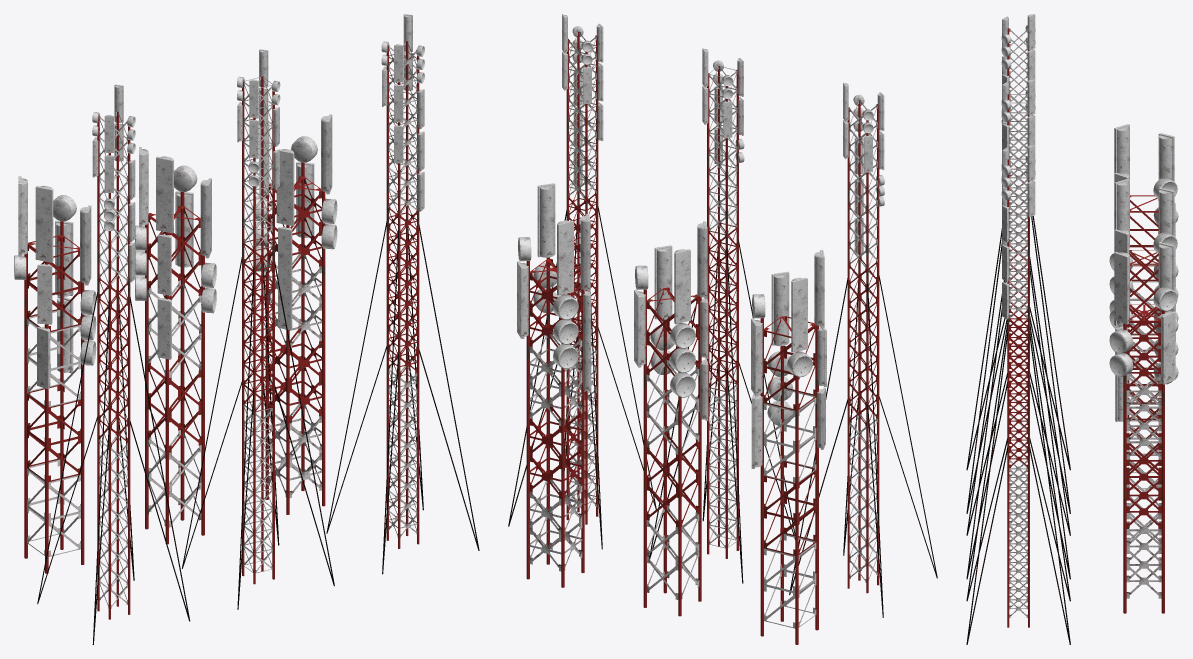
The picture shows the model from 3 angles, left to right: view 1: azimuth 30°, elevation 25°; view 2: azimuth 150°, elevation 25°; view 3: azimuth 270°, elevation 25°; orthographic projection. The views are drawn at different scales.
Parts seen in each view (by area): view 1: Telecommunication Tower_1_1, Telecommunication Tower_5_5, Telecommunication Tower_0_0, Telecommunication Tower_2_2, Telecommunication Tower_4_4, Telecommunication Tower_3_3; view 2: Telecommunication Tower_2_2, Telecommunication Tower_0_0, Telecommunication Tower_1_1, Telecommunication Tower_3_3, Telecommunication Tower_4_4, Telecommunication Tower_5_5; view 3: Telecommunication Tower_2_2, Telecommunication Tower_5_5, Telecommunication Tower_4_4, Telecommunication Tower_3_3, Telecommunication Tower_1_1, Telecommunication Tower_0_0.
Boxes of the visible parts, x1,y1,x2,y2 form: Telecommunication Tower_1_1: (135, 147, 216, 544); Telecommunication Tower_5_5: (326, 14, 479, 574); Telecommunication Tower_0_0: (14, 176, 96, 573); Telecommunication Tower_2_2: (255, 114, 337, 514); Telecommunication Tower_4_4: (182, 49, 334, 609); Telecommunication Tower_3_3: (37, 84, 190, 644); Telecommunication Tower_2_2: (517, 183, 591, 587); Telecommunication Tower_0_0: (751, 249, 826, 644); Telecommunication Tower_1_1: (634, 221, 708, 616); Telecommunication Tower_3_3: (789, 82, 937, 617); Telecommunication Tower_4_4: (649, 48, 795, 583); Telecommunication Tower_5_5: (508, 14, 656, 549); Telecommunication Tower_2_2: (1109, 242, 1178, 613); Telecommunication Tower_5_5: (966, 145, 1070, 644); Telecommunication Tower_4_4: (966, 79, 1070, 579); Telecommunication Tower_3_3: (966, 14, 1070, 513); Telecommunication Tower_1_1: (1109, 178, 1178, 541); Telecommunication Tower_0_0: (1109, 124, 1178, 489).
Size of the model in its own units: 16.05 by 20.58 by 8.21.
Materials: 1 (1 with a texture image).
